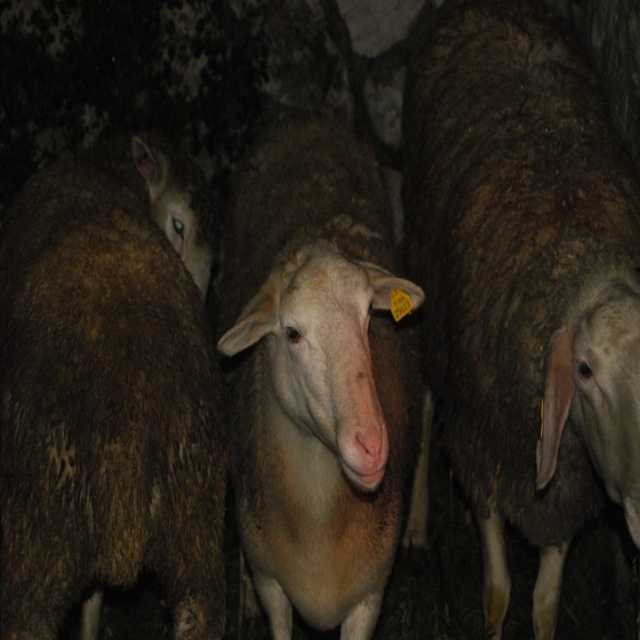Sheep: (401, 5, 639, 639), (208, 111, 426, 639), (0, 136, 228, 639)
